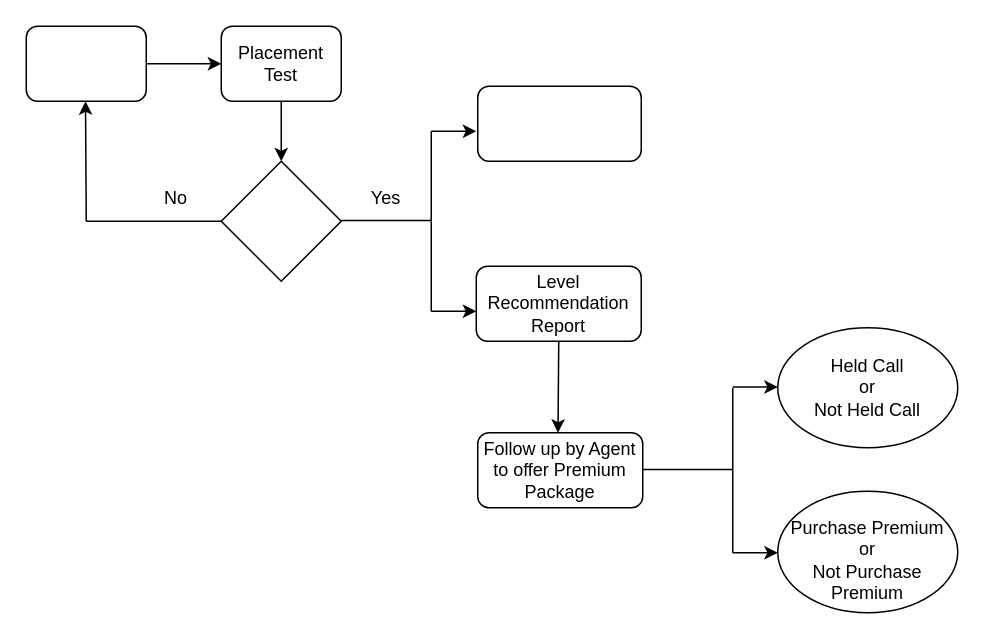
Some shapes in this 984 by 639 pixel diagram are drawn without their labels. The shapes that lost their labels are listed below. From the top down, each one's box as (x1, y1, x2, y2) in pixels, then its label:
(25, 25, 146, 101): Purchase Placement Package
(476, 85, 641, 161): Claim Attendance Report
(220, 160, 341, 281): Presence Report
